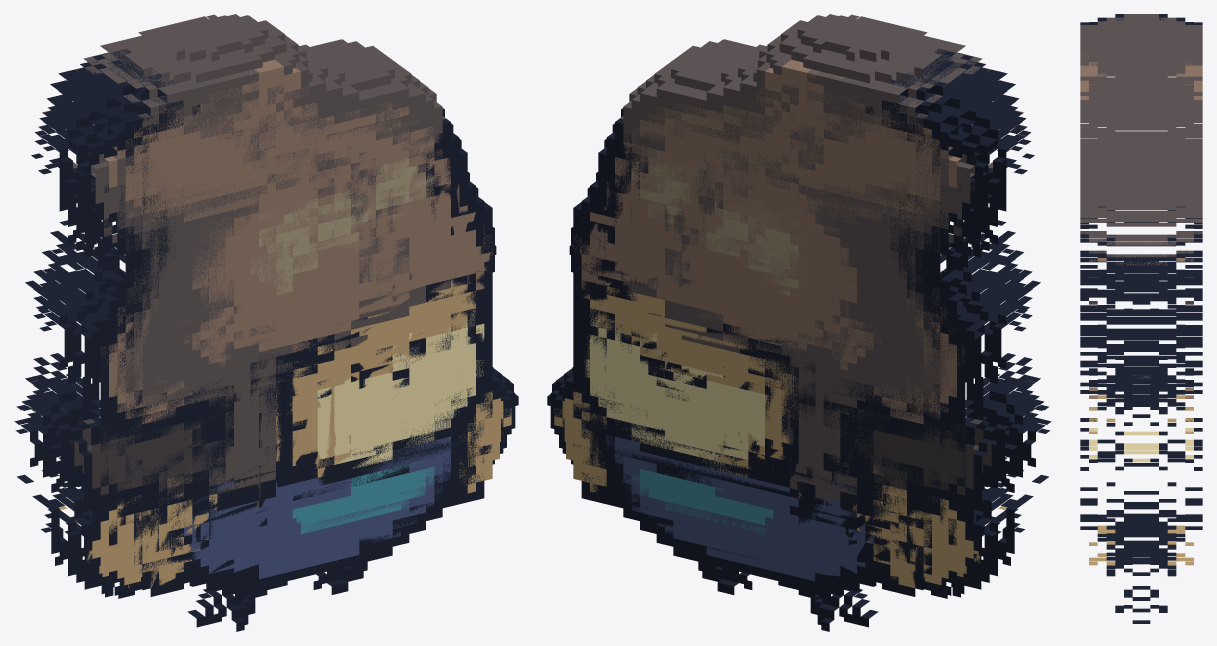
The model's file is aldeao_parado.glb.
3 views of the same model, side by side, from view 1: azimuth 30°, elevation 25°; view 2: azimuth 150°, elevation 25°; view 3: azimuth 270°, elevation 25° (orthographic). The views are drawn at different scales.
Visible parts, largest first — view 1: q0, q1, q2, q6, q5, q3, q7, q4; view 2: q0, q1, q2, q6, q5, q3, q7, q4; view 3: q2, q1, q3, q0, q6, q4, q5, q7.
Part boxes in pixels (bbox=[...]): q0: bbox=[33, 85, 484, 631]; q1: bbox=[51, 84, 506, 598]; q2: bbox=[51, 14, 511, 584]; q6: bbox=[16, 22, 465, 580]; q5: bbox=[31, 47, 475, 597]; q3: bbox=[50, 14, 518, 556]; q7: bbox=[14, 49, 475, 589]; q4: bbox=[33, 76, 502, 596]; q0: bbox=[581, 86, 1032, 631]; q1: bbox=[559, 84, 1014, 598]; q2: bbox=[554, 14, 1014, 603]; q6: bbox=[598, 22, 1049, 576]; q5: bbox=[590, 44, 1034, 597]; q3: bbox=[547, 14, 1015, 562]; q7: bbox=[590, 43, 1051, 589]; q4: bbox=[562, 79, 1032, 596]; q2: bbox=[1080, 38, 1202, 559]; q1: bbox=[1080, 61, 1202, 564]; q3: bbox=[1080, 42, 1202, 563]; q0: bbox=[1080, 80, 1202, 623]; q6: bbox=[1080, 14, 1202, 521]; q4: bbox=[1080, 64, 1202, 576]; q5: bbox=[1080, 47, 1202, 564]; q7: bbox=[1080, 17, 1202, 545].
Bounding box in the file's own units: 58 × 67 × 14.
Materials: 1 (1 with a texture image).
